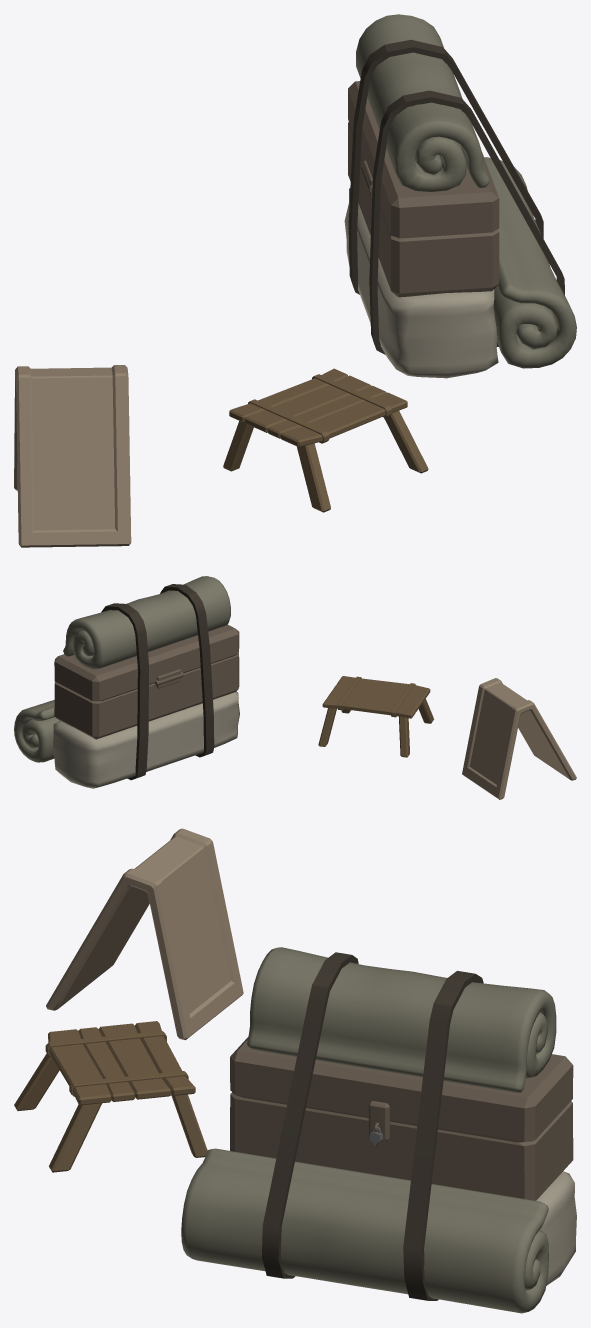
The model's file is Stall_Meshes.fbx.
3 renders of one model, top to bottom at view 1: azimuth 30°, elevation 25°; view 2: azimuth 150°, elevation 25°; view 3: azimuth 270°, elevation 25°, orthographic. The views are drawn at different scales.
Parts seen in each view (by area): view 1: SignBoard, chest, bedroll, bottom, Table, bedroll1, belt_right1, belt_right; view 2: chest, bottom, bedroll, SignBoard, Table, belt_right1, belt_right, bedroll1; view 3: bedroll1, chest, bedroll, SignBoard, Table, belt_right1, belt_right, bottom.
Boxes of the visible parts, <box> form: SignBoard: <box>14,365,131,547</box>; chest: <box>348,81,499,297</box>; bedroll: <box>356,14,489,191</box>; bottom: <box>344,188,498,378</box>; Table: <box>223,368,428,512</box>; bedroll1: <box>484,157,576,368</box>; belt_right1: <box>348,39,543,294</box>; belt_right: <box>369,90,564,354</box>; chest: <box>54,624,239,739</box>; bottom: <box>52,691,239,788</box>; bedroll: <box>63,576,230,669</box>; SignBoard: <box>462,678,576,799</box>; Table: <box>318,676,433,757</box>; belt_right1: <box>101,603,148,780</box>; belt_right: <box>160,584,214,757</box>; bedroll1: <box>14,700,59,762</box>; bedroll1: <box>181,1148,548,1313</box>; chest: <box>230,1037,573,1200</box>; bedroll: <box>247,947,556,1092</box>; SignBoard: <box>46,828,243,1040</box>; Table: <box>14,1021,207,1172</box>; belt_right1: <box>403,970,483,1300</box>; belt_right: <box>262,952,358,1278</box>; bottom: <box>536,1171,576,1285</box>.
Bounding box in the file's own units: 386 × 137 × 245.
